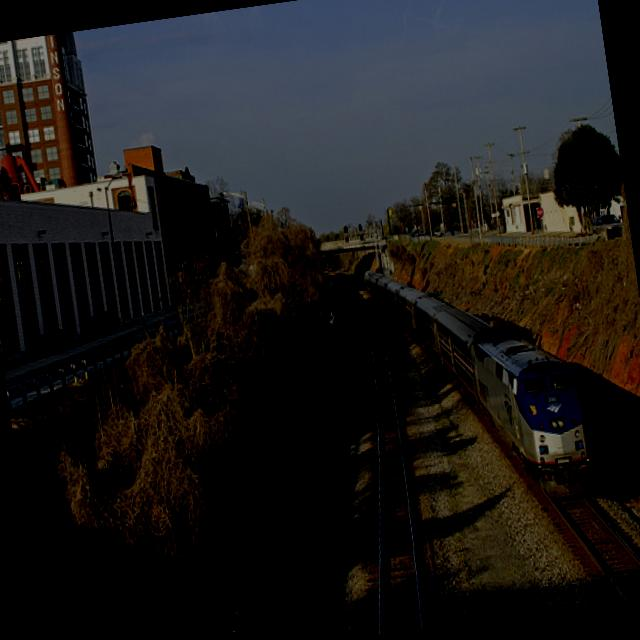Vehicle: (590, 212, 624, 242)
